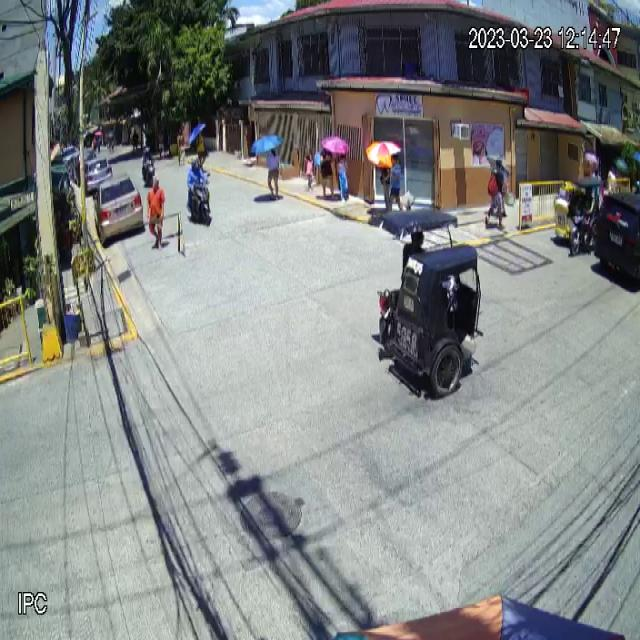Tricycle: (372, 207, 482, 396)
